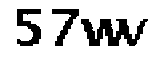5: (11, 4, 47, 52)
7: (48, 4, 81, 51)
v: (122, 16, 150, 47)
w: (79, 16, 122, 49)
